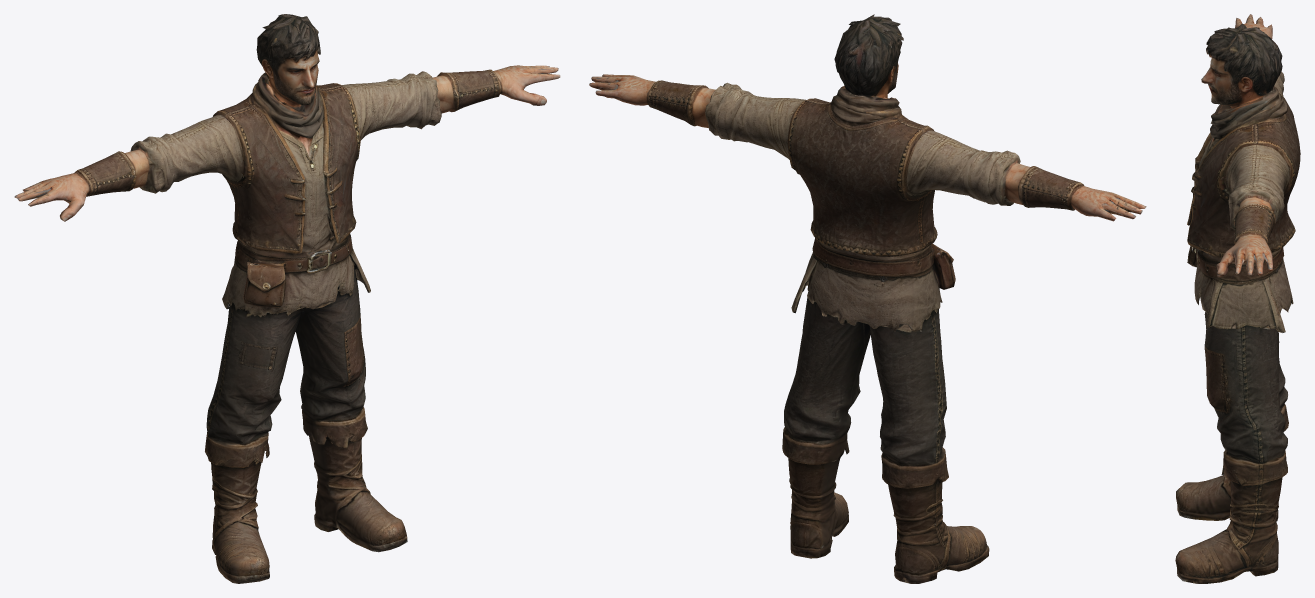
Rendered from 01_약탈자_시안.glb.
The picture shows the model from 3 angles, left to right: view 1: azimuth 30°, elevation 25°; view 2: azimuth 150°, elevation 25°; view 3: azimuth 270°, elevation 25°; orthographic projection. The views are drawn at different scales.
Parts seen in each view (by area): view 1: texture_mapping; view 2: texture_mapping; view 3: texture_mapping.
Part boxes in pixels (x1,y1,x2,y2): texture_mapping: (14,14,560,583); texture_mapping: (589,14,1146,583); texture_mapping: (1175,14,1300,583).
Size of the model in its own units: 1 by 0.9317 by 0.205.
1 material, 1 textured.
